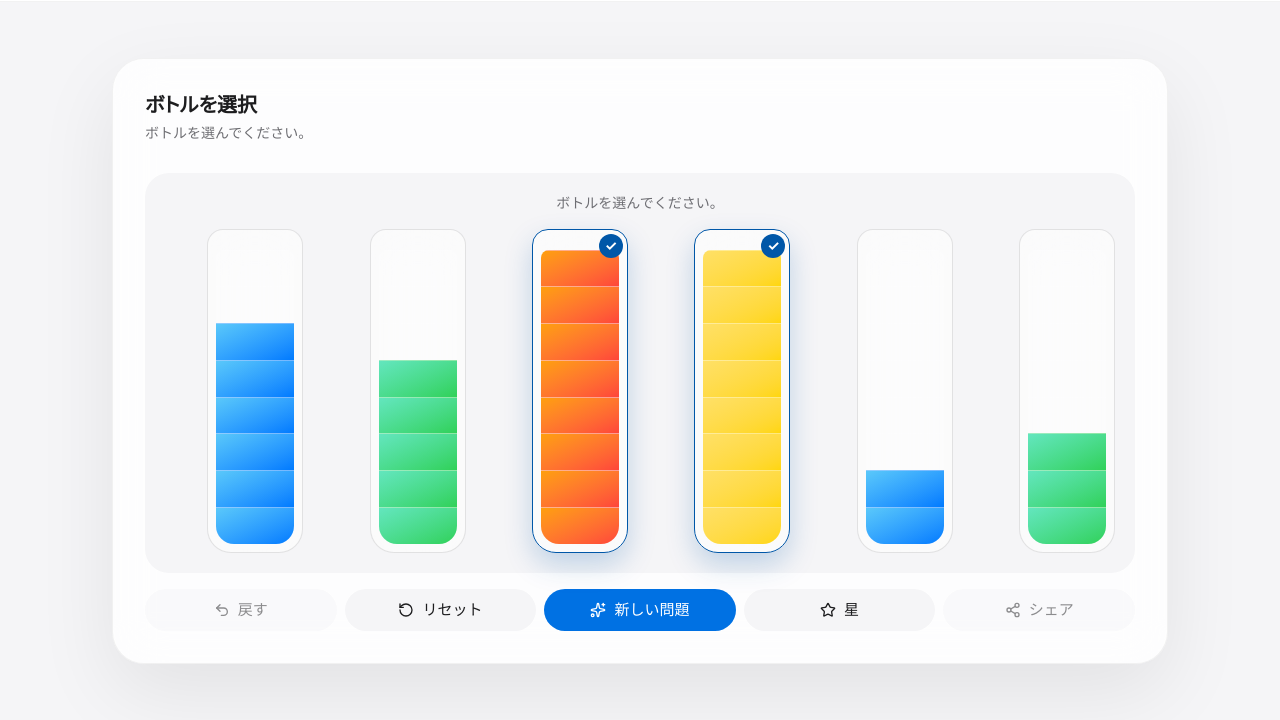
Test: ColorSortPuzzlePage › keeps the current board when discard confirmation is cancelled
(page scrolled)
Click the button named "ボトル 1". click: (255, 391)
box: [207,229,303,553]
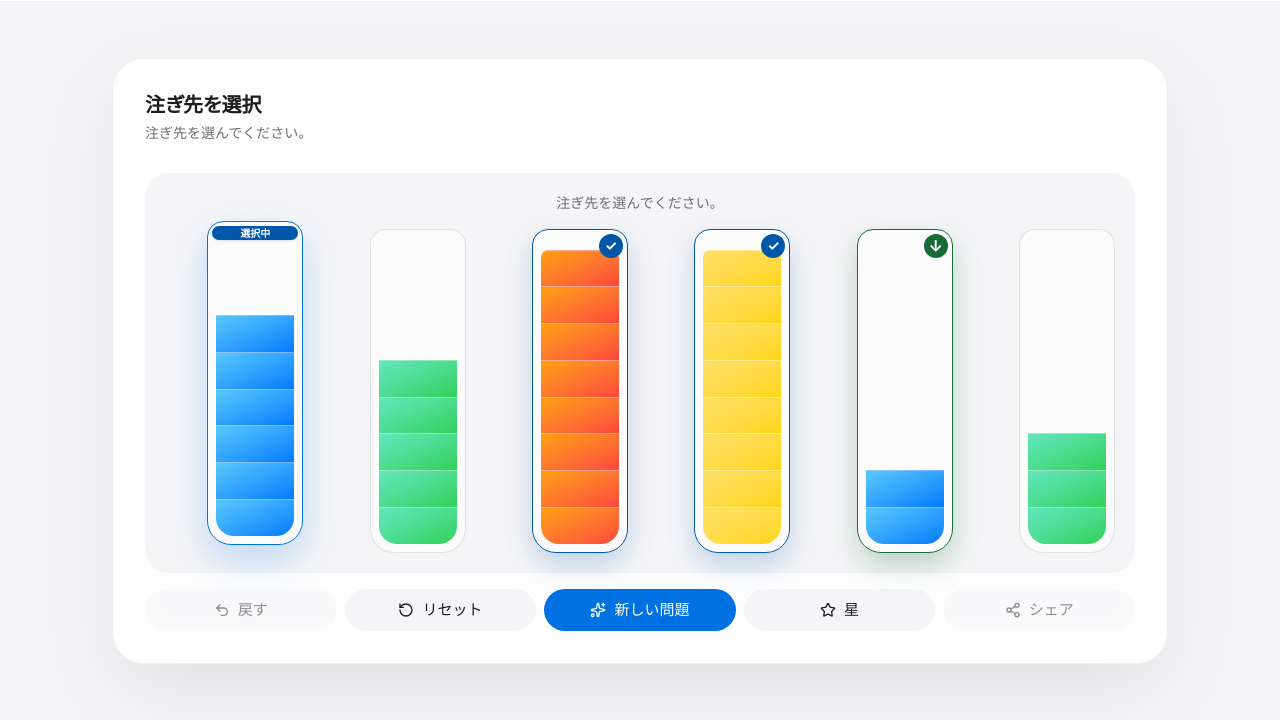
Click the button named "ボトル 5". click: (905, 391)
box: [857,229,953,553]
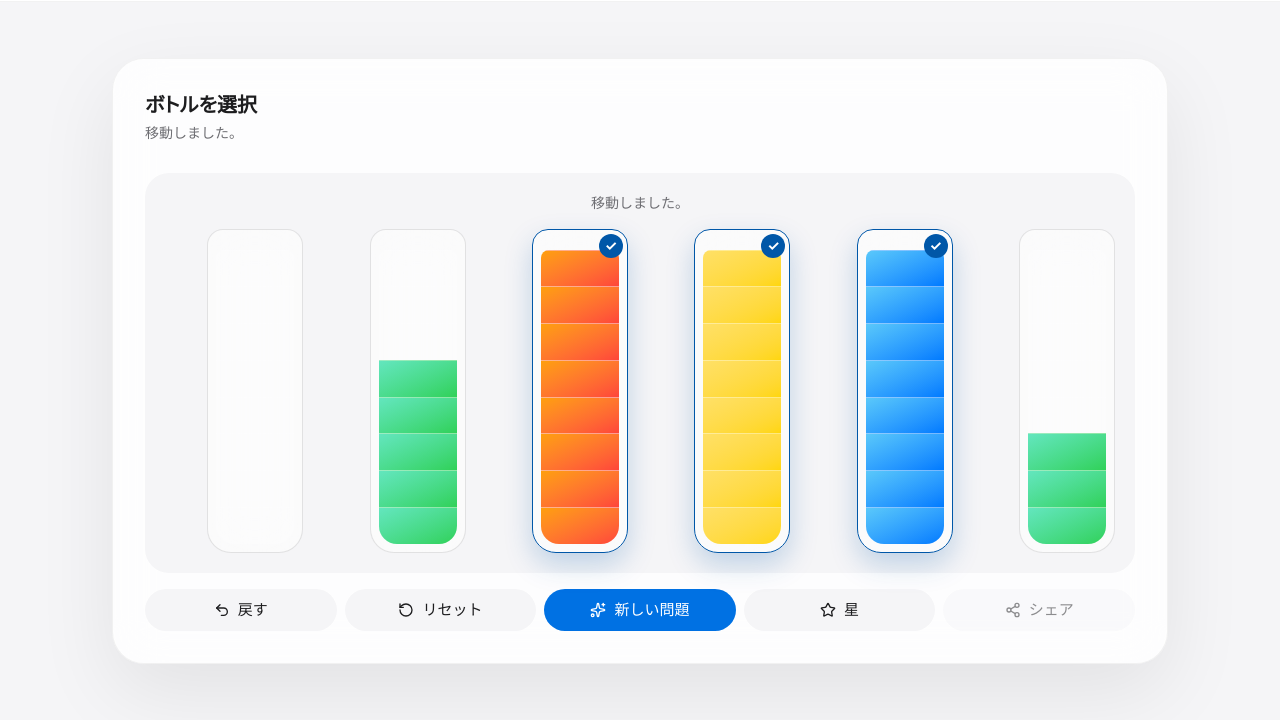
Click the 3rd button named "新しい問題". click: (640, 610)
box: [544,589,736,631]
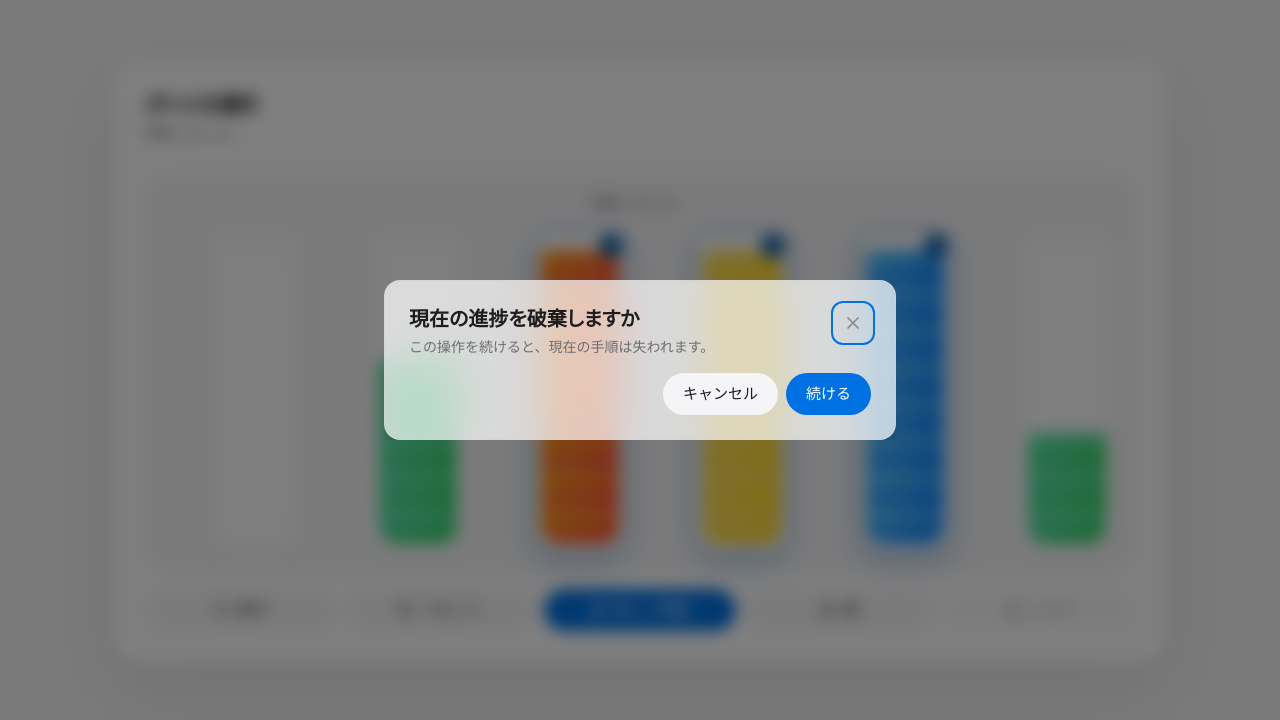
Click the 1st button named "キャンセル". click: (720, 394)
box: [663,373,778,415]
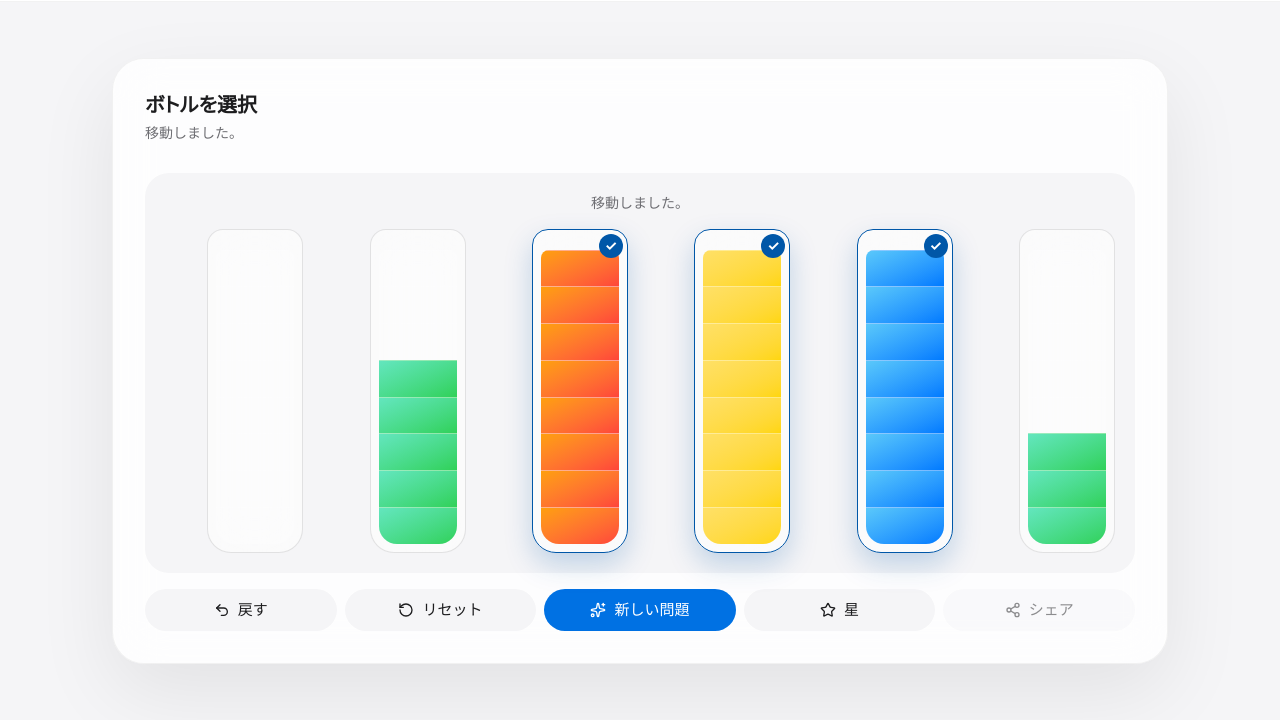
Result: the button named "ボトル 1、0/8、空" is shown at [207,229,303,553]
Result: the dialog is gone
